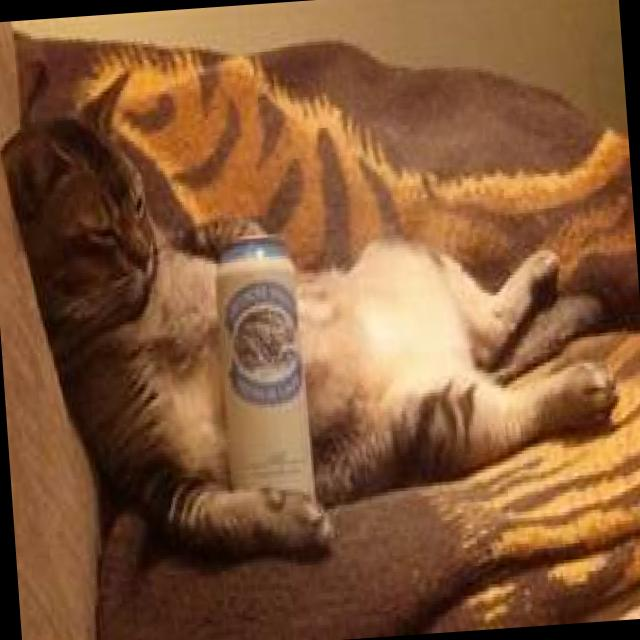animal: (0, 31, 628, 577)
